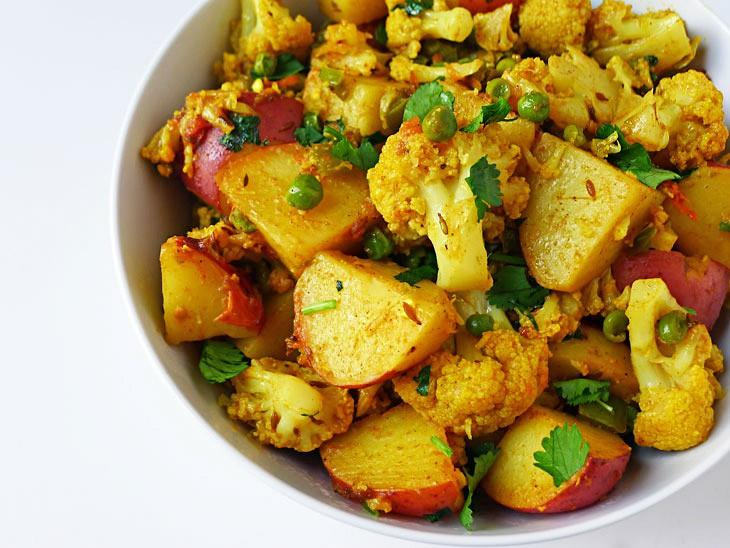AlooGobi: (142, 1, 730, 513)
